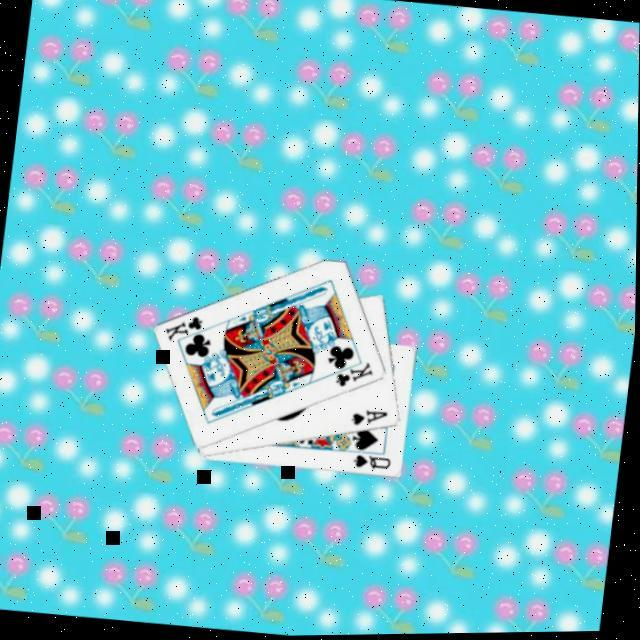AS: (348, 408, 391, 434)
KC: (160, 312, 213, 351), (325, 357, 377, 396)
QS: (349, 453, 394, 477)
